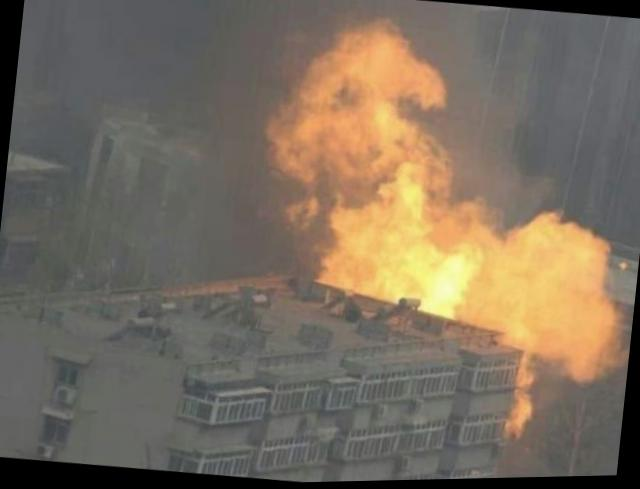fire: (240, 4, 639, 448)
